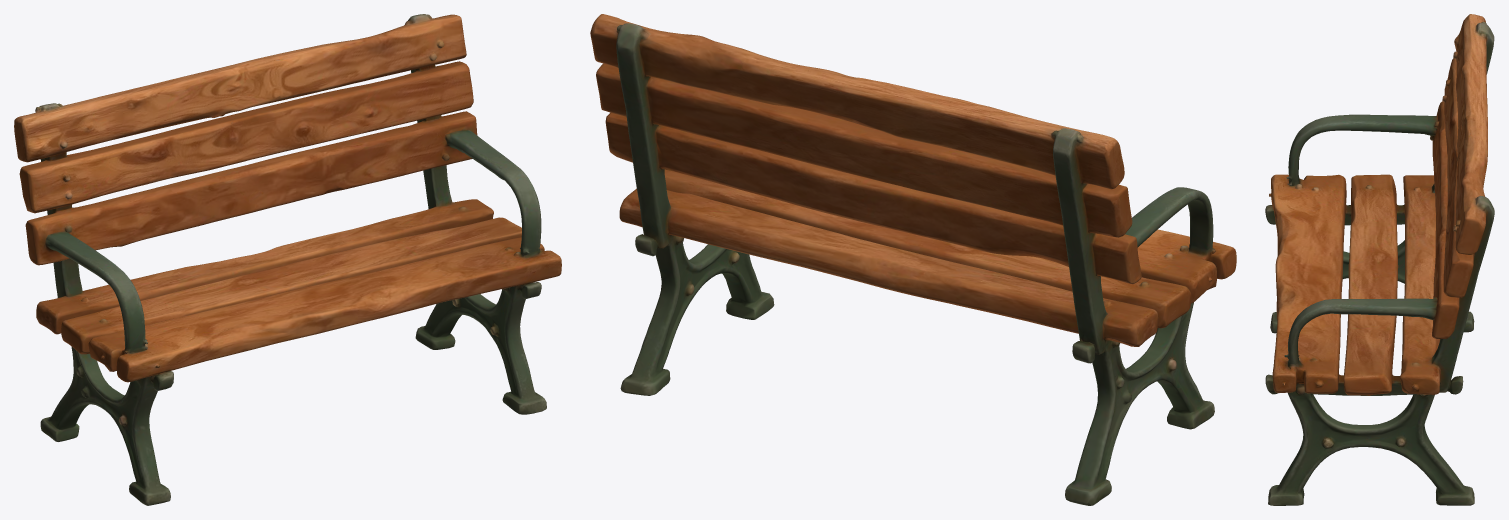
The model's file is bench.glb.
3 renders of one model, left to right at view 1: azimuth 30°, elevation 25°; view 2: azimuth 150°, elevation 25°; view 3: azimuth 270°, elevation 25°, orthographic. The views are drawn at different scales.
Parts seen in each view (by area): view 1: tripo_node_b08b5a55-d9d8-4c7f-9335-aaa4d57c5c1f; view 2: tripo_node_b08b5a55-d9d8-4c7f-9335-aaa4d57c5c1f; view 3: tripo_node_b08b5a55-d9d8-4c7f-9335-aaa4d57c5c1f.
Part boxes in pixels (x1,y1,x2,y2): tripo_node_b08b5a55-d9d8-4c7f-9335-aaa4d57c5c1f: (14, 14, 561, 505); tripo_node_b08b5a55-d9d8-4c7f-9335-aaa4d57c5c1f: (590, 14, 1236, 505); tripo_node_b08b5a55-d9d8-4c7f-9335-aaa4d57c5c1f: (1265, 14, 1494, 505).
Size of the model in its own units: 1.25 by 0.86 by 0.5871.
Materials: 1 (1 with a texture image).
